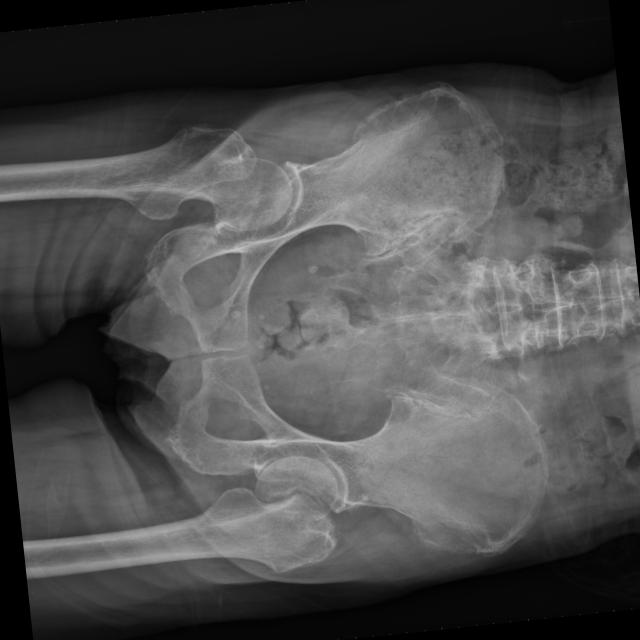left-neck: (145, 487, 336, 573), (254, 456, 337, 519)
normal-right: (71, 122, 291, 231)
